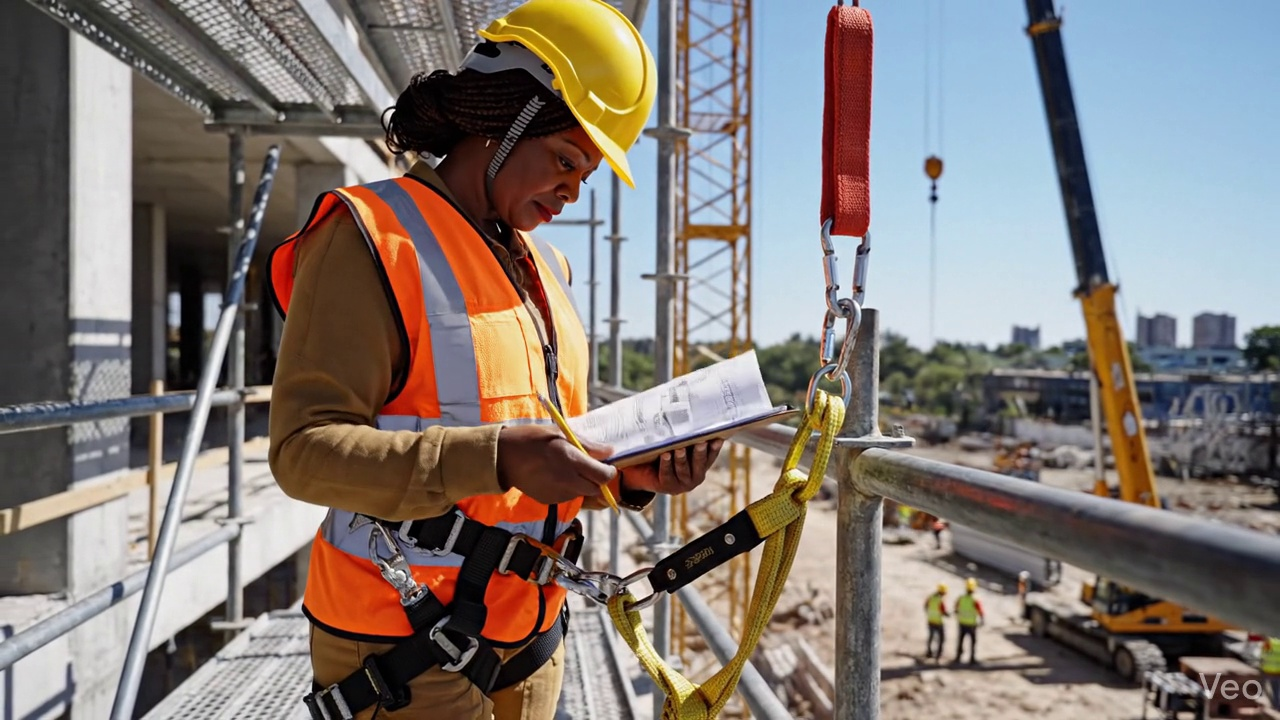p: (269, 0, 721, 719), (599, 451, 606, 456)
